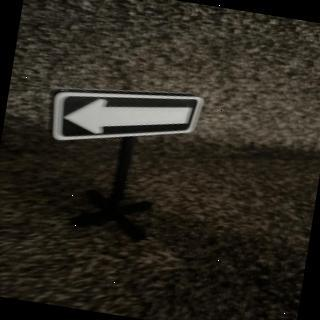sign_oneway_left: (48, 74, 207, 164)
